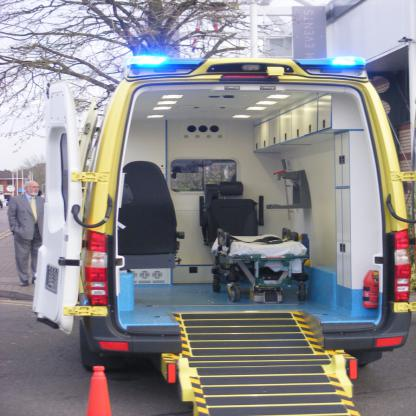Ambulance: (31, 54, 416, 416)
